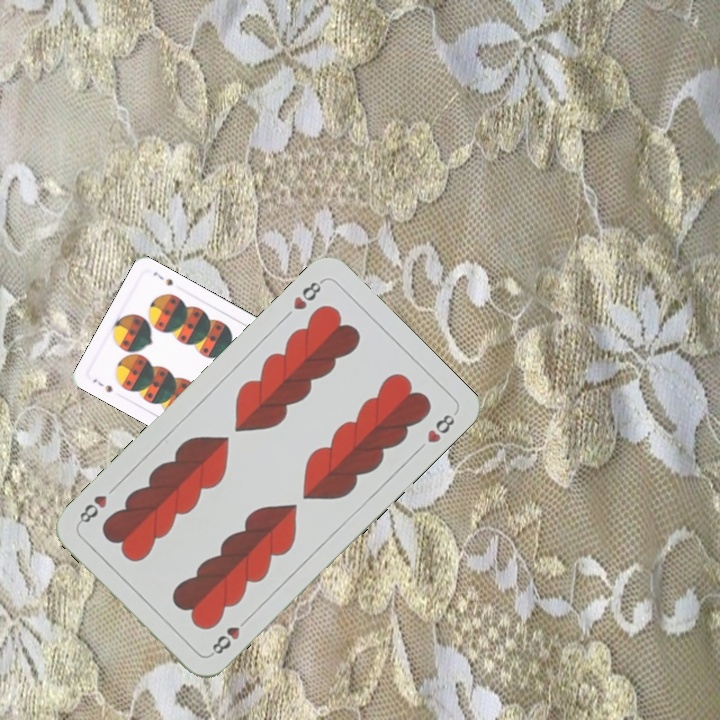H8: (206, 612, 252, 659), (289, 275, 326, 312)
S7: (88, 375, 115, 395)
